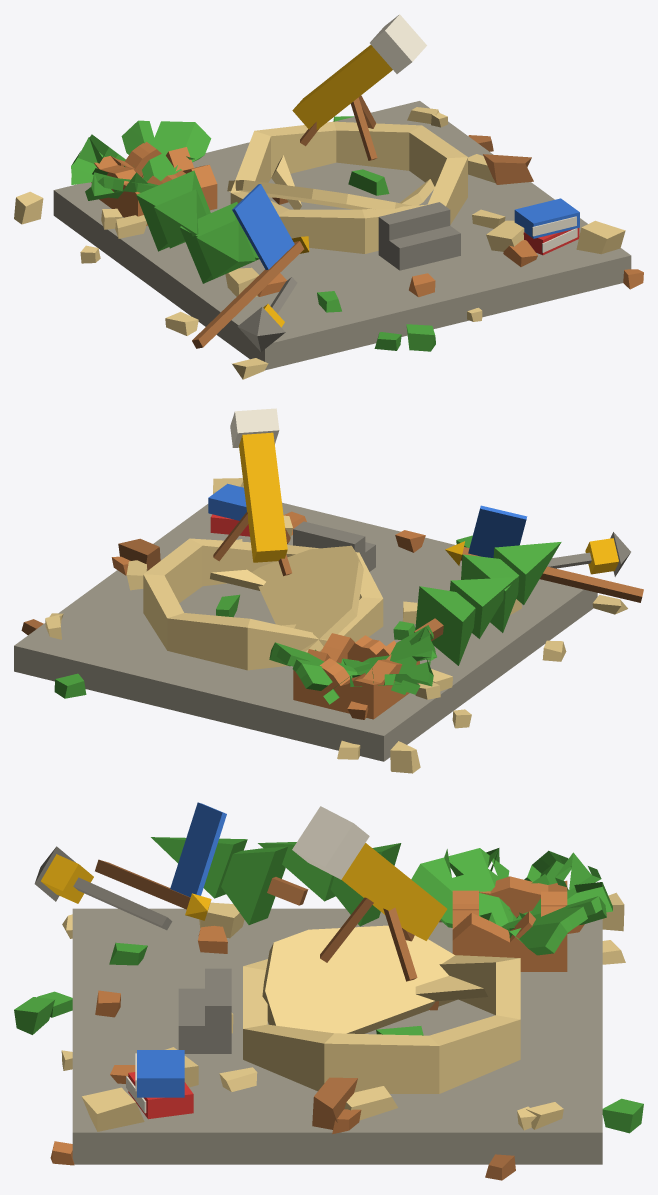
Rendered from observatory_t1_v2_dmg2.glb.
3 views of the same model, one above another, from view 1: azimuth 30°, elevation 25°; view 2: azimuth 150°, elevation 25°; view 3: azimuth 270°, elevation 25° (orthographic). The views are drawn at different scales.
Visible parts, largest first — view 1: observatory_t1_v2_dmg2; view 2: observatory_t1_v2_dmg2; view 3: observatory_t1_v2_dmg2.
Part boxes in pixels (bbox=[...]): observatory_t1_v2_dmg2: bbox=[14, 14, 643, 379]; observatory_t1_v2_dmg2: bbox=[14, 408, 643, 773]; observatory_t1_v2_dmg2: bbox=[14, 802, 643, 1180].
Bounding box in the file's own units: 0.7499 × 0.3351 × 0.713.
Materials: 1 (1 with a texture image).
